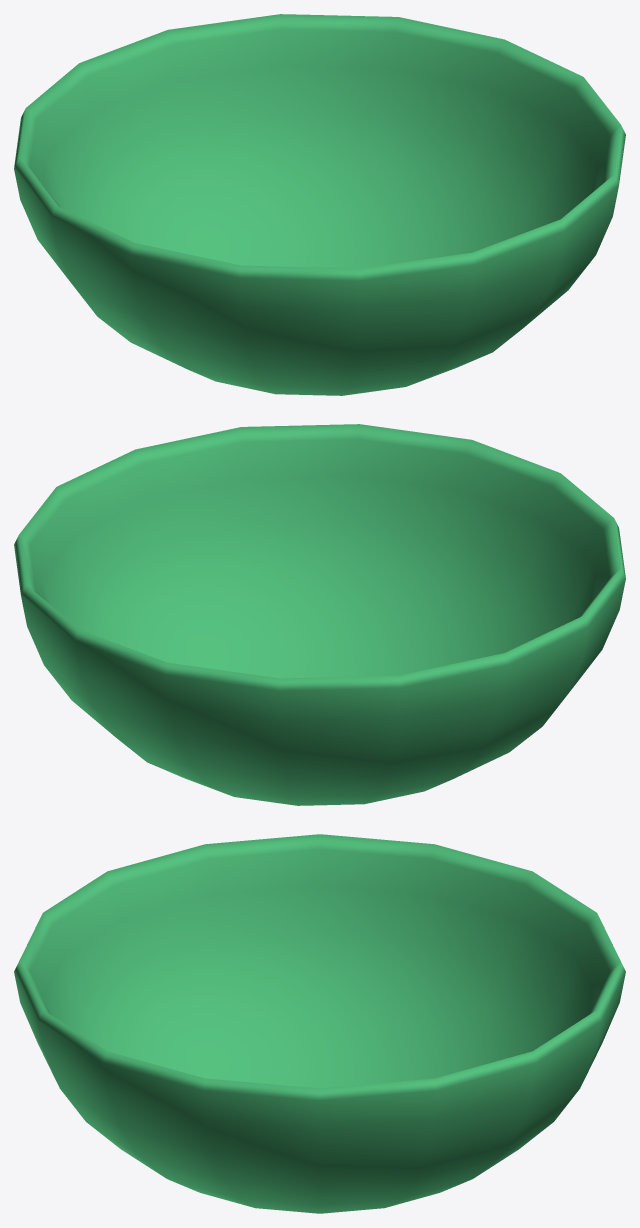
Rendered from bowl_01.fbx.
The picture shows the model from 3 angles, top to bottom: view 1: azimuth 30°, elevation 25°; view 2: azimuth 150°, elevation 25°; view 3: azimuth 270°, elevation 25°; orthographic projection.
Parts seen in each view (by area): view 1: pSphere2; view 2: pSphere2; view 3: pSphere2.
Part boxes in pixels (box(x1,y1,x2,y2)): pSphere2: box(14, 14, 625, 395); pSphere2: box(14, 424, 625, 805); pSphere2: box(14, 834, 625, 1213).
Size of the model in its own units: 0.1729 by 0.064 by 0.1729.
